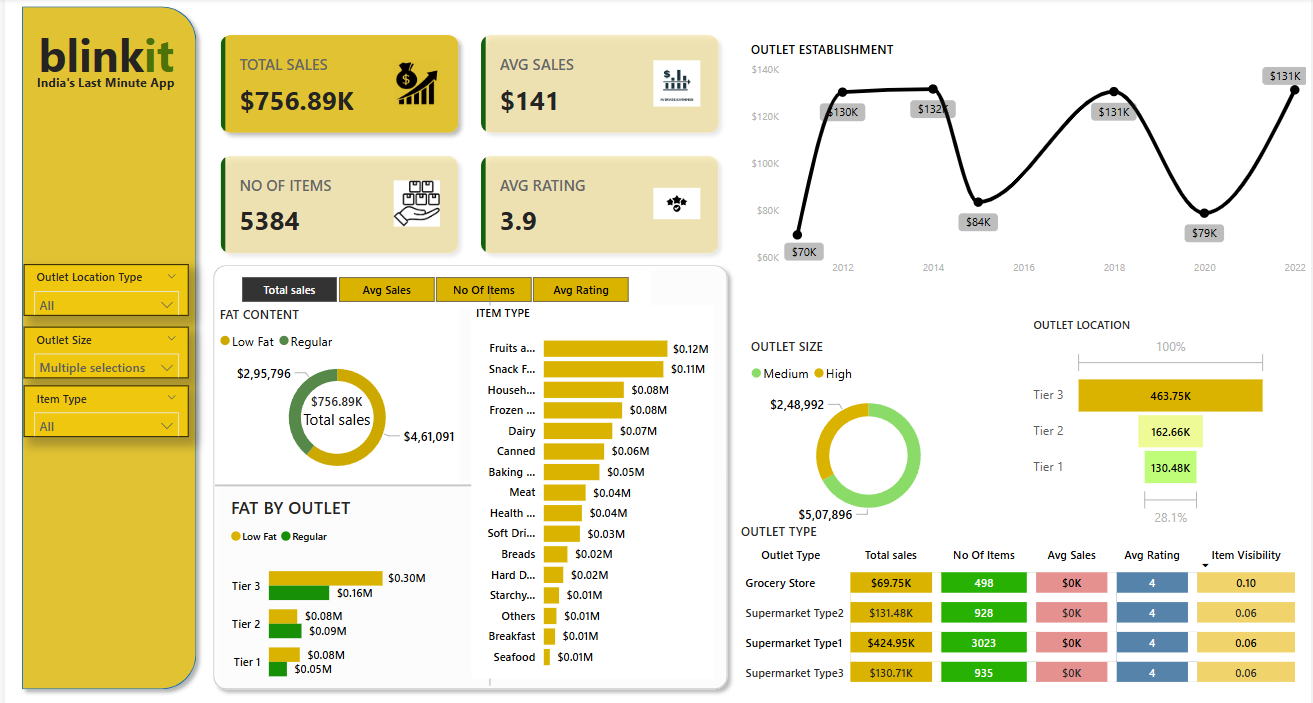

The dashboard page shown, as its layout file describes it:
{"tool":"powerbi","page":{"name":"Page 1","canvas":[1400,800],"ordinal":0},"visuals":[{"type":"shape","box":[10,0,205,750],"z":0},{"type":"textbox","box":[30.8,22.8,162.1,96.5],"z":1000},{"type":"textbox","box":[22.8,76.4,170.2,42.9],"z":2000},{"type":"cardVisual","fields":{"Data":["BlinkIT Grocery Data.Total sales","BlinkIT Grocery Data.Avg Sales","BlinkIT Grocery Data.No Of Items","BlinkIT Grocery Data.Avg Rating"]},"box":[214.4,22.8,569.5,269.3],"z":3000},{"type":"shape","box":[214.4,277.4,569.5,473],"z":4000},{"type":"donutChart","title":"FAT CONTENT","fields":{"Y":["BlinkIT Grocery Data.Total sales"],"Category":["BlinkIT Grocery Data.Item Fat Content"]},"box":[225.1,329.6,262.6,193],"z":5000},{"type":"slicer","fields":{"Values":["Metrics.Metrics"]},"box":[227.8,292.1,465,40.2],"z":6000},{"type":"cardVisual","fields":{"Data":["BlinkIT Grocery Data.Total sales"]},"box":[296.1,400.7,119.3,84.4],"z":7000},{"type":"clusteredBarChart","title":"FAT BY OUTLET","fields":{"Y":["BlinkIT Grocery Data.Total sales"],"Category":["BlinkIT Grocery Data.Outlet Location Type"],"Series":["BlinkIT Grocery Data.Item Fat Content"]},"box":[237.2,533.3,219.8,217.1],"z":8000},{"type":"shape","box":[225.1,498.5,294.8,48.2],"z":9000},{"type":"shape","box":[499.8,306.9,40.2,430.2],"z":10000},{"type":"clusteredBarChart","title":"ITEM TYPE","fields":{"Y":["BlinkIT Grocery Data.Total sales"],"Category":["BlinkIT Grocery Data.Item Type"]},"box":[499.8,329.6,260,400],"z":11000},{"type":"shape","box":[794.6,22.8,569.5,714.2],"z":12000},{"type":"lineChart","title":"OUTLET ESTABLISHMENT","fields":{"Category":["BlinkIT Grocery Data.Outlet Establishment Year"],"Y":["BlinkIT Grocery Data.Total sales"]},"box":[794.6,45.6,605.7,261.3],"z":13000},{"type":"donutChart","title":"OUTLET SIZE","fields":{"Y":["BlinkIT Grocery Data.Total sales"],"Category":["BlinkIT Grocery Data.Outlet Size"]},"box":[794.6,364.5,262.6,205],"z":14000},{"type":"funnel","title":"OUTLET LOCATION","fields":{"Y":["Sum(BlinkIT Grocery Data.Sales)"],"Category":["BlinkIT Grocery Data.Outlet Location Type"]},"box":[1097.5,341.7,261,230],"z":15000},{"type":"pivotTable","title":"OUTLET TYPE","fields":{"Values":["BlinkIT Grocery Data.Total sales","BlinkIT Grocery Data.No Of Items","BlinkIT Grocery Data.Avg Sales","BlinkIT Grocery Data.Avg Rating","Avg(BlinkIT Grocery Data.Item Visibility)"],"Rows":["BlinkIT Grocery Data.Outlet Type"]},"box":[783.9,562.8,616.4,237.2],"z":16000},{"type":"slicer","fields":{"Values":["BlinkIT Grocery Data.Outlet Location Type"]},"box":[20.1,285.4,176.9,54.9],"z":17000},{"type":"slicer","fields":{"Values":["BlinkIT Grocery Data.Outlet Size"]},"box":[20.1,352.4,176.9,54.9],"z":18000},{"type":"slicer","fields":{"Values":["BlinkIT Grocery Data.Item Type"]},"box":[20.1,415.4,176.9,54.9],"z":19000}]}

Visuals, with their boxes on the page's 1400x800 design canvas (x1, y1, x2, y2). These are canvas units, not pixel positions in the 1313x703 screenshot, which may show the page scaled, cropped or inside an application window:
shape: <region>10, 0, 215, 750</region>
textbox: <region>31, 23, 193, 119</region>
textbox: <region>23, 76, 193, 119</region>
cardVisual - BlinkIT Grocery Data.Total sales x BlinkIT Grocery Data.Avg Sales: <region>214, 23, 784, 292</region>
shape: <region>214, 277, 784, 750</region>
"FAT CONTENT" donutChart: <region>225, 330, 488, 523</region>
slicer - Metrics.Metrics: <region>228, 292, 693, 332</region>
cardVisual - BlinkIT Grocery Data.Total sales: <region>296, 401, 415, 485</region>
"FAT BY OUTLET" clusteredBarChart: <region>237, 533, 457, 750</region>
shape: <region>225, 498, 520, 547</region>
shape: <region>500, 307, 540, 737</region>
"ITEM TYPE" clusteredBarChart: <region>500, 330, 760, 730</region>
shape: <region>795, 23, 1364, 737</region>
"OUTLET ESTABLISHMENT" lineChart: <region>795, 46, 1400, 307</region>
"OUTLET SIZE" donutChart: <region>795, 364, 1057, 570</region>
"OUTLET LOCATION" funnel: <region>1098, 342, 1358, 572</region>
"OUTLET TYPE" pivotTable: <region>784, 563, 1400, 800</region>
slicer - BlinkIT Grocery Data.Outlet Location Type: <region>20, 285, 197, 340</region>
slicer - BlinkIT Grocery Data.Outlet Size: <region>20, 352, 197, 407</region>
slicer - BlinkIT Grocery Data.Item Type: <region>20, 415, 197, 470</region>
